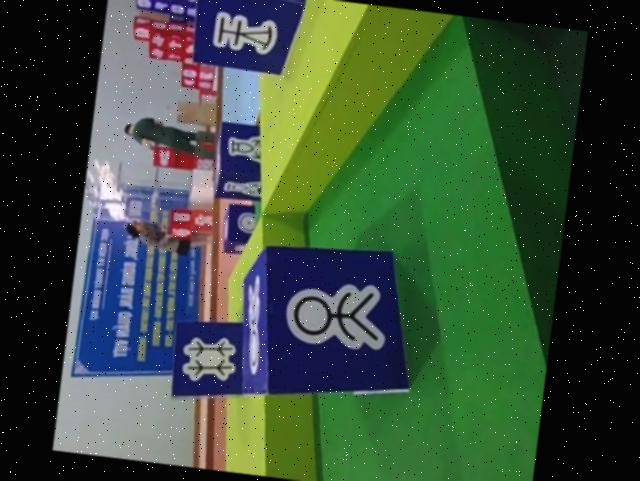R2 Real Blue: (229, 237, 430, 417), (183, 0, 308, 75), (166, 312, 254, 404), (209, 121, 269, 204), (221, 203, 260, 257)
